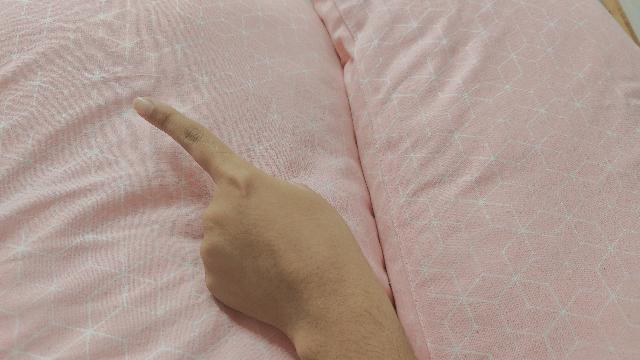soochi: (131, 98, 419, 360)
